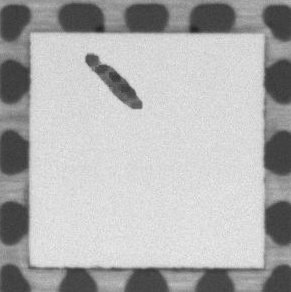DIE_INK: (82, 50, 147, 115)
